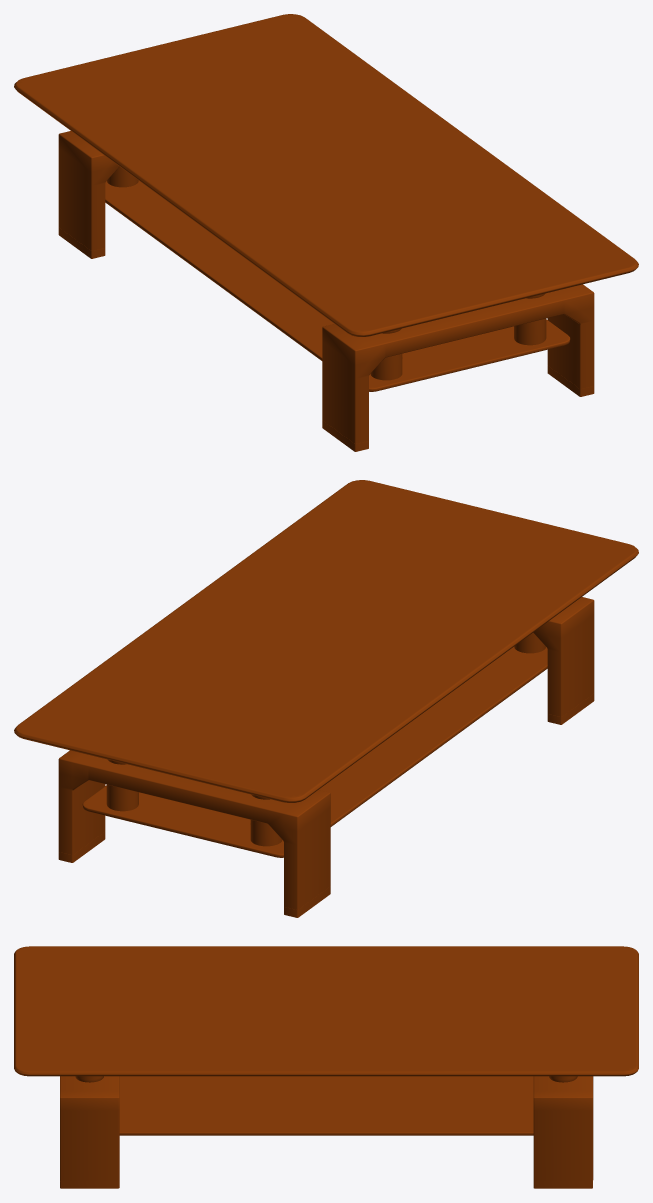
File: coffeetable.obj
3 views of the same model, one above another, from view 1: azimuth 30°, elevation 25°; view 2: azimuth 150°, elevation 25°; view 3: azimuth 270°, elevation 25° (orthographic). The views are drawn at different scales.
Visible parts, largest first — view 1: coffeetable:Table_glass_top group18; view 2: coffeetable:Table_glass_top group18; view 3: coffeetable:Table_glass_top group18.
Boxes of the visible parts, x1,y1,x2,y2 form: coffeetable:Table_glass_top group18: (14, 14, 638, 451); coffeetable:Table_glass_top group18: (14, 480, 638, 917); coffeetable:Table_glass_top group18: (14, 946, 638, 1188).
Size of the model in its own units: 1.47 by 0.6857 by 3.06.
